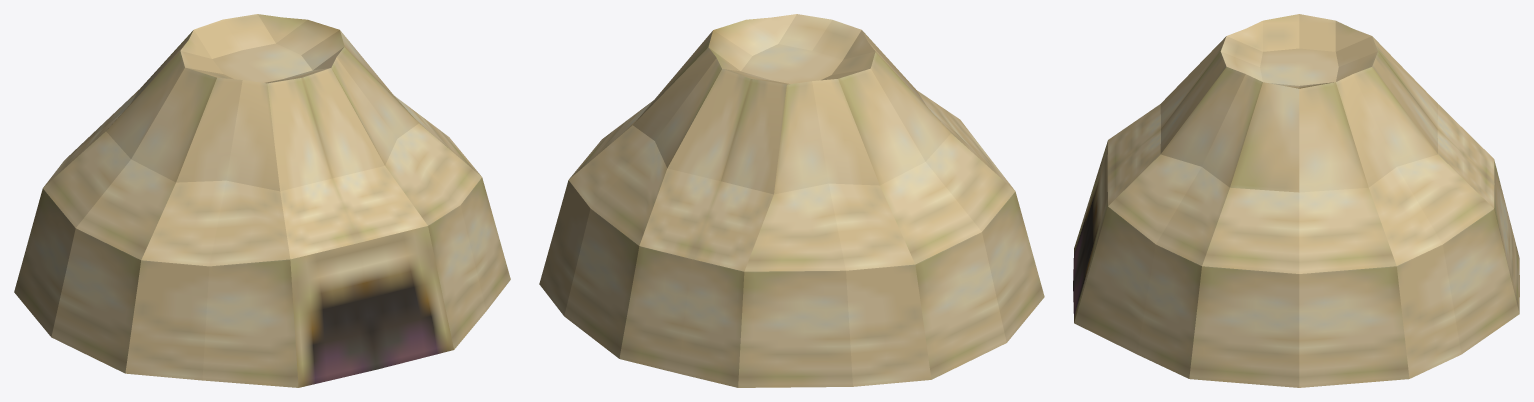
File: Poly_World_Map_Town_House_12.obj
3 renders of one model, left to right at view 1: azimuth 30°, elevation 25°; view 2: azimuth 150°, elevation 25°; view 3: azimuth 270°, elevation 25°, orthographic. The views are drawn at different scales.
Parts seen in each view (by area): view 1: Cube.002_Cube.001; view 2: Cube.002_Cube.001; view 3: Cube.002_Cube.001.
Part boxes in pixels (x1,y1,x2,y2): Cube.002_Cube.001: [14, 14, 510, 387]; Cube.002_Cube.001: [539, 14, 1044, 387]; Cube.002_Cube.001: [1073, 14, 1519, 387].
Bounding box in the file's own units: 0.5578 × 0.2994 × 0.5168.
Materials: 1 (1 with a texture image).
